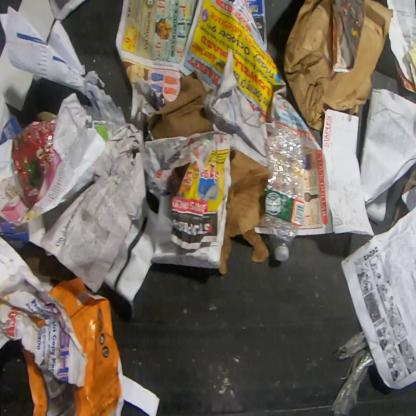cardboard: (283, 0, 394, 131), (218, 147, 270, 275), (148, 74, 215, 142)
rigid_plastic: (263, 126, 307, 264)
soft_plastic: (0, 92, 106, 226)
